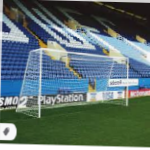goals: (15, 46, 132, 117)
